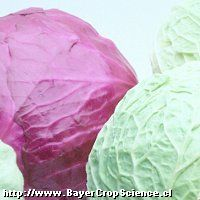cabbage: (0, 3, 139, 199), (85, 57, 199, 199)
